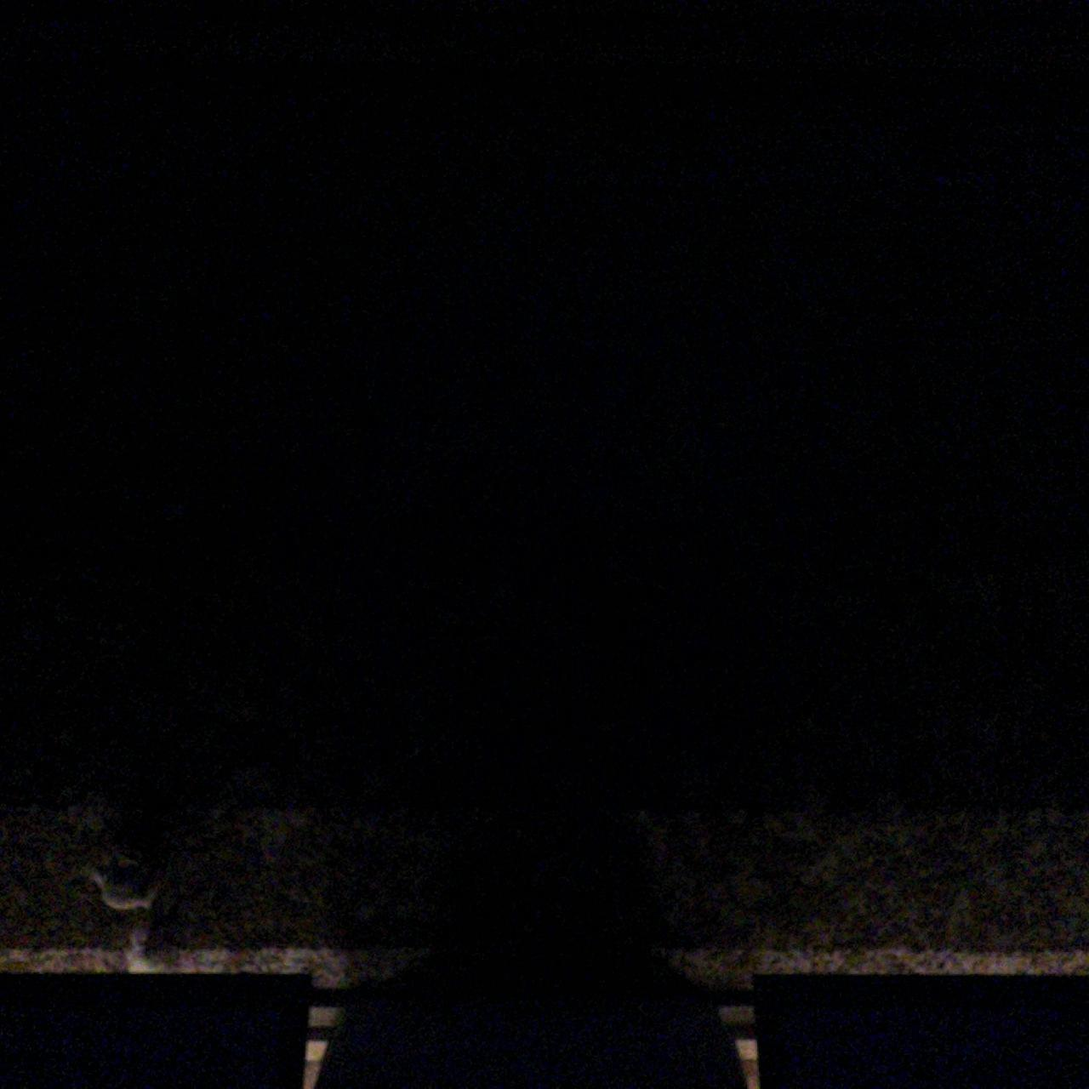chicken: (77, 850, 171, 916), (119, 912, 185, 980)
